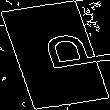P_W: (11, 31, 99, 79)
